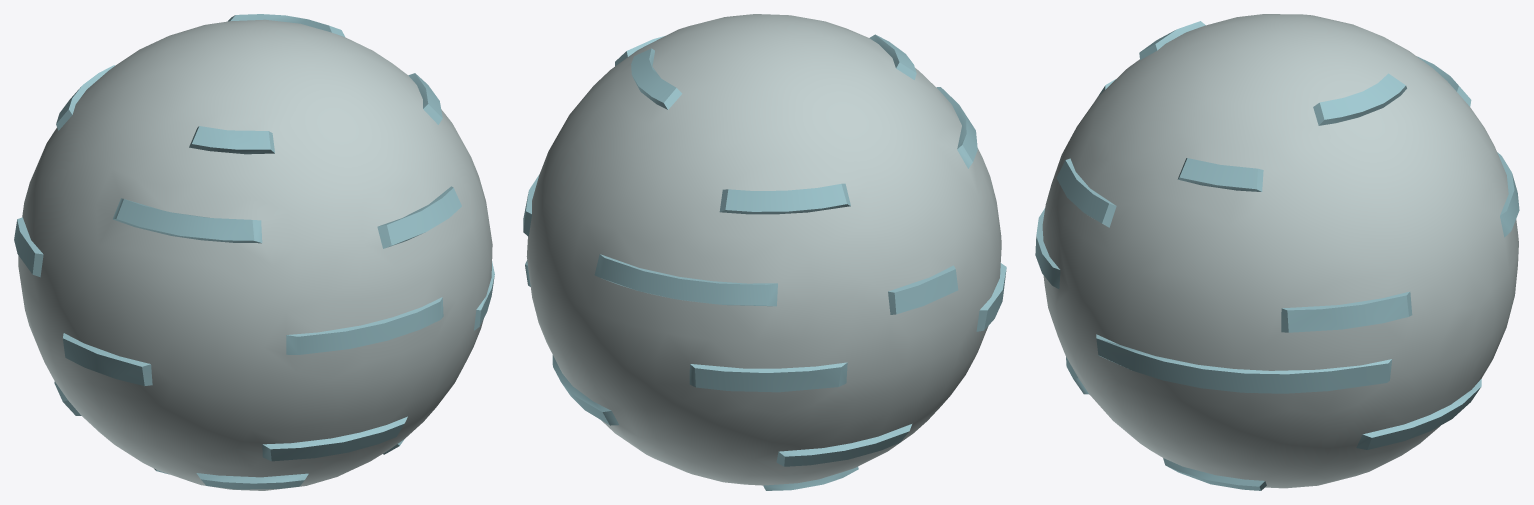
The model's file is Planet_9_Sphere.obj.
The picture shows the model from 3 angles, left to right: view 1: azimuth 30°, elevation 25°; view 2: azimuth 150°, elevation 25°; view 3: azimuth 270°, elevation 25°; orthographic projection.
Parts seen in each view (by area): view 1: Planet_9_Sphere.012; view 2: Planet_9_Sphere.012; view 3: Planet_9_Sphere.012.
Part boxes in pixels (bbox=[...]): Planet_9_Sphere.012: bbox=[14, 14, 494, 490]; Planet_9_Sphere.012: bbox=[523, 14, 1006, 490]; Planet_9_Sphere.012: bbox=[1035, 14, 1519, 490].
Bounding box in the file's own units: 3.82 × 3.75 × 3.81.
